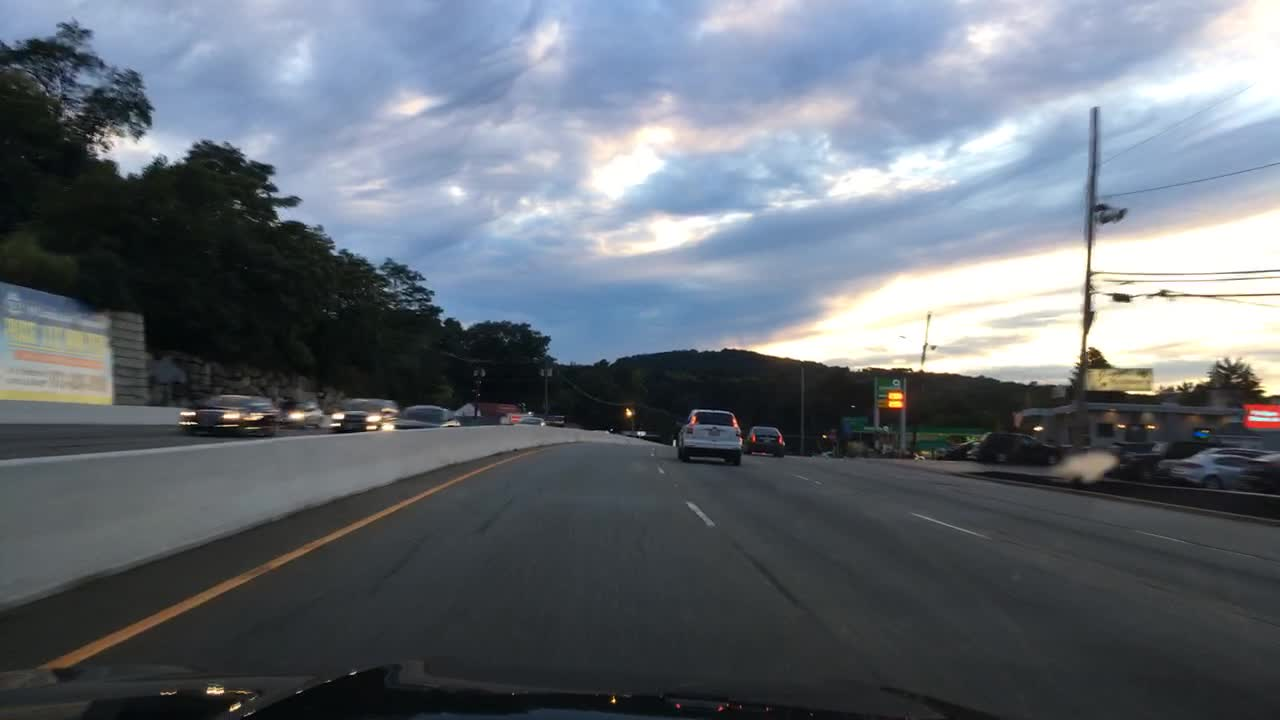car: (1116, 439, 1236, 482), (178, 392, 278, 438), (1156, 447, 1272, 486), (675, 408, 744, 465), (970, 430, 1061, 466), (1168, 452, 1253, 485), (329, 396, 398, 432), (381, 403, 461, 430), (1238, 452, 1279, 492), (743, 424, 787, 457), (277, 398, 324, 428), (945, 439, 973, 459), (512, 414, 548, 427), (543, 413, 568, 428), (931, 447, 949, 460)
traffic sign: (875, 376, 904, 409), (841, 412, 869, 434), (887, 389, 904, 408), (634, 428, 646, 437)
